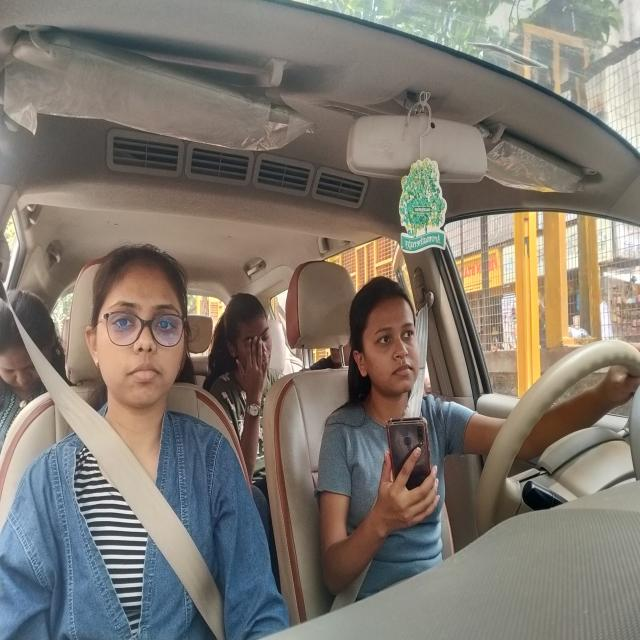mobile: (385, 421, 438, 502)
person: (92, 233, 185, 401), (350, 279, 426, 398), (0, 298, 61, 402), (222, 305, 274, 385)
